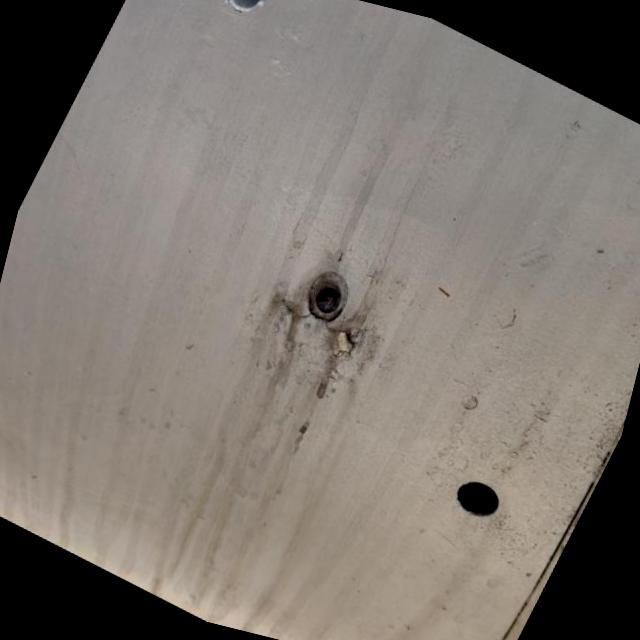Missing Fastener: (430, 446, 517, 534), (301, 265, 350, 322)
